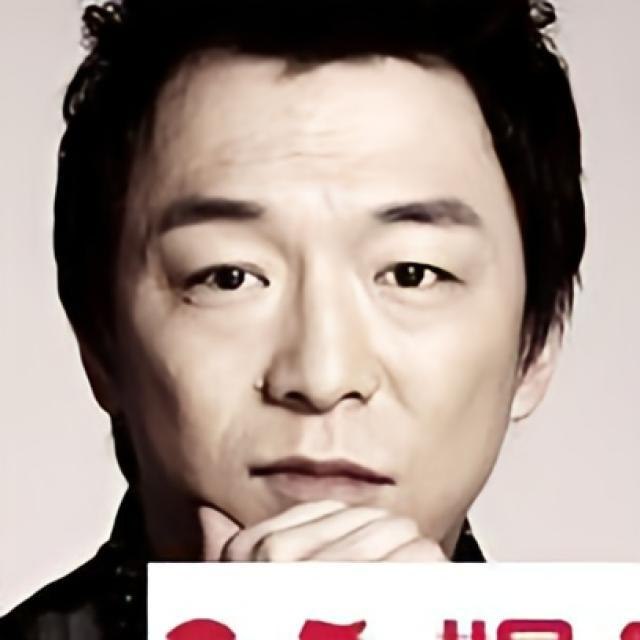neutral: (118, 39, 524, 558)
